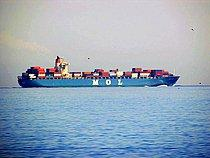Ship: (17, 54, 183, 91)
